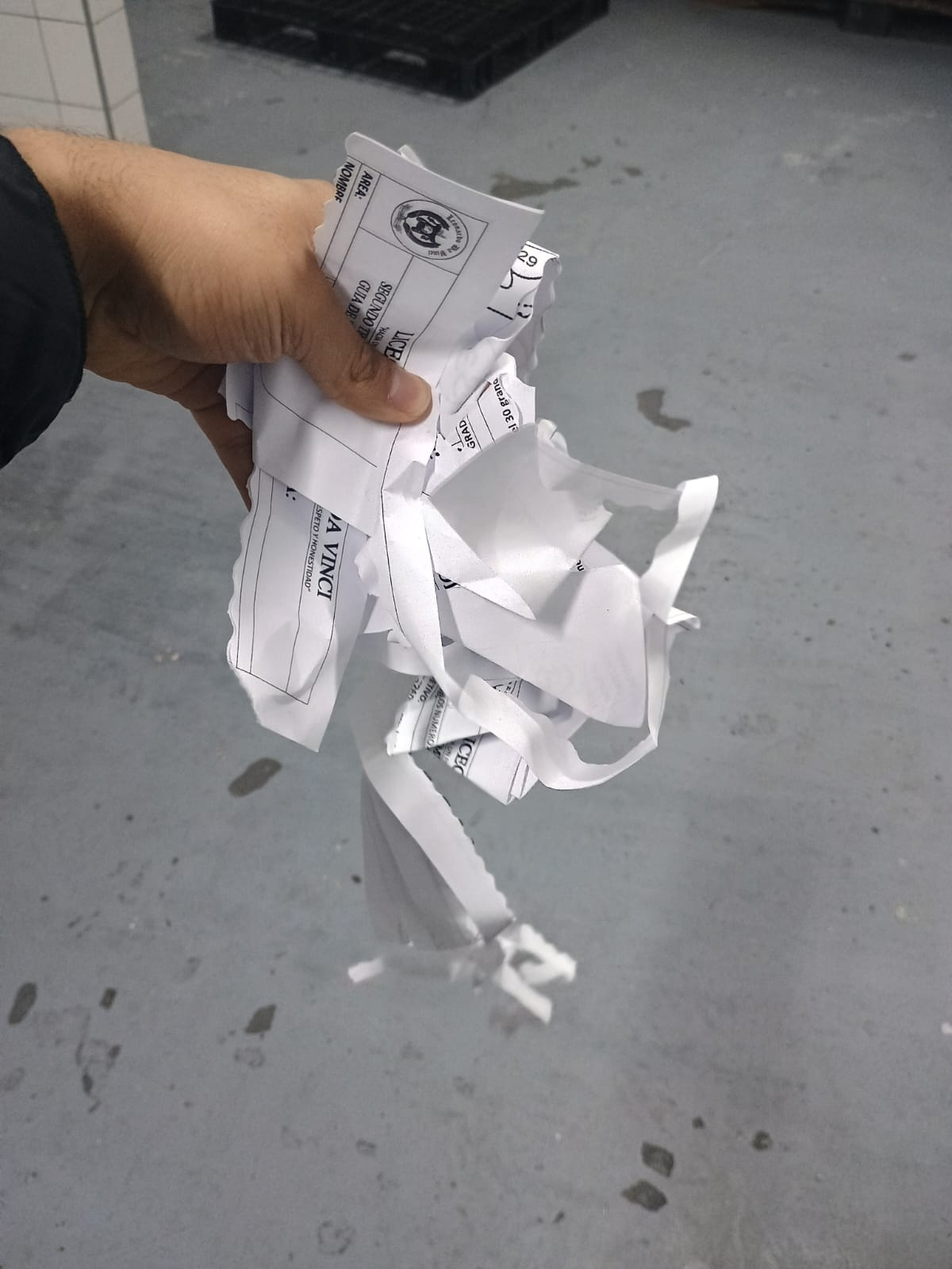Papel: (220, 127, 721, 1014)
